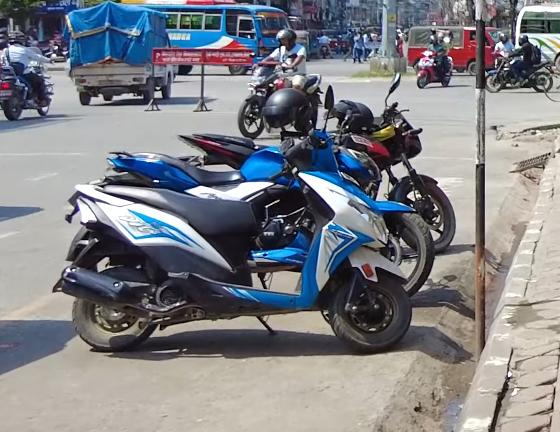bike: (231, 65, 324, 134), (485, 49, 555, 97)
scooter: (49, 125, 430, 369), (415, 48, 456, 91)
transport_vehicle: (64, 2, 175, 102)
